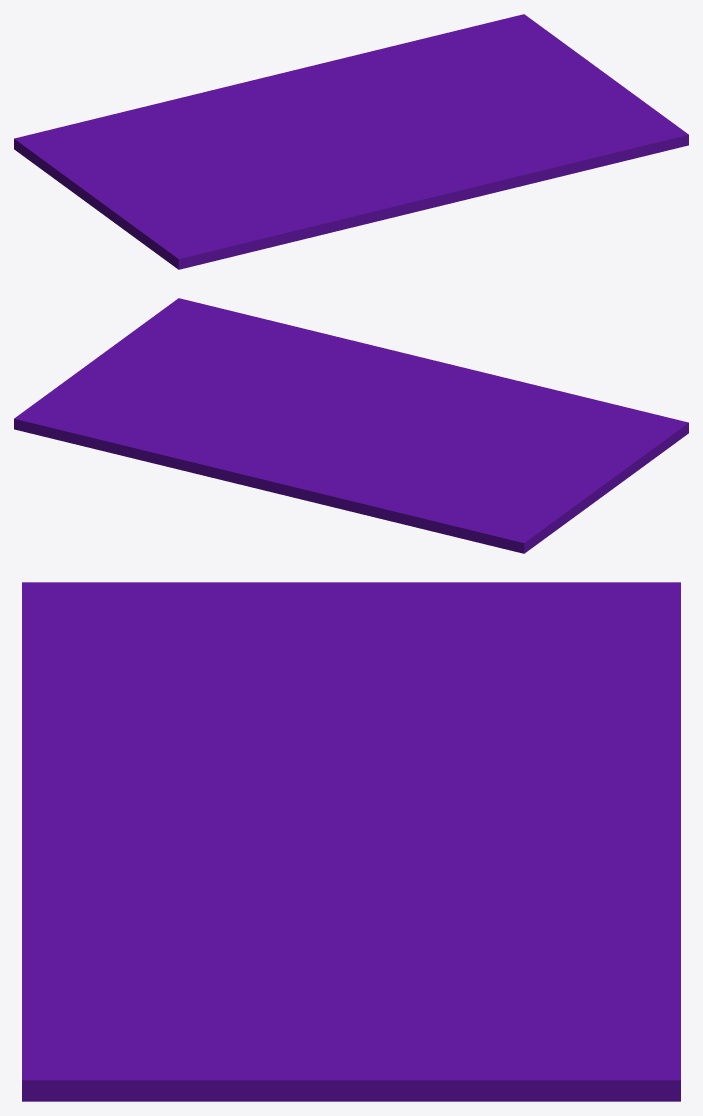
The model's file is Exhibition_19.011_chunks.fbx.
3 renders of one model, top to bottom at view 1: azimuth 30°, elevation 25°; view 2: azimuth 150°, elevation 25°; view 3: azimuth 270°, elevation 25°, orthographic. The views are drawn at different scales.
Visible parts, largest first — view 1: Exhibition_19.011_2, Exhibition_19.011_1, Exhibition_19.011_5, Exhibition_19.011_0, Exhibition_19.011_6, Exhibition_19.011_4; view 2: Exhibition_19.011_1, Exhibition_19.011_2, Exhibition_19.011_5, Exhibition_19.011_6, Exhibition_19.011_0, Exhibition_19.011_4; view 3: Exhibition_19.011_2, Exhibition_19.011_1, Exhibition_19.011_5, Exhibition_19.011_6, Exhibition_19.011_0, Exhibition_19.011_4.
Part boxes in pixels (x1=…): Exhibition_19.011_2: x1=352, y1=17, x2=688, y2=202; Exhibition_19.011_1: x1=14, y1=116, x2=359, y2=269; Exhibition_19.011_5: x1=106, y1=66, x2=371, y2=134; Exhibition_19.011_0: x1=260, y1=146, x2=452, y2=249; Exhibition_19.011_6: x1=311, y1=14, x2=528, y2=84; Exhibition_19.011_4: x1=361, y1=69, x2=449, y2=127; Exhibition_19.011_1: x1=348, y1=394, x2=688, y2=553; Exhibition_19.011_2: x1=19, y1=298, x2=423, y2=421; Exhibition_19.011_5: x1=227, y1=421, x2=442, y2=533; Exhibition_19.011_6: x1=14, y1=415, x2=234, y2=481; Exhibition_19.011_0: x1=366, y1=358, x2=570, y2=412; Exhibition_19.011_4: x1=164, y1=418, x2=327, y2=439; Exhibition_19.011_2: x1=22, y1=828, x2=662, y2=1101; Exhibition_19.011_1: x1=22, y1=582, x2=680, y2=832; Exhibition_19.011_5: x1=359, y1=672, x2=680, y2=897; Exhibition_19.011_6: x1=528, y1=871, x2=680, y2=1101; Exhibition_19.011_0: x1=22, y1=697, x2=304, y2=840; Exhibition_19.011_4: x1=376, y1=847, x2=545, y2=970.
Bounding box in the file's own units: 642 × 12.85 × 359.
